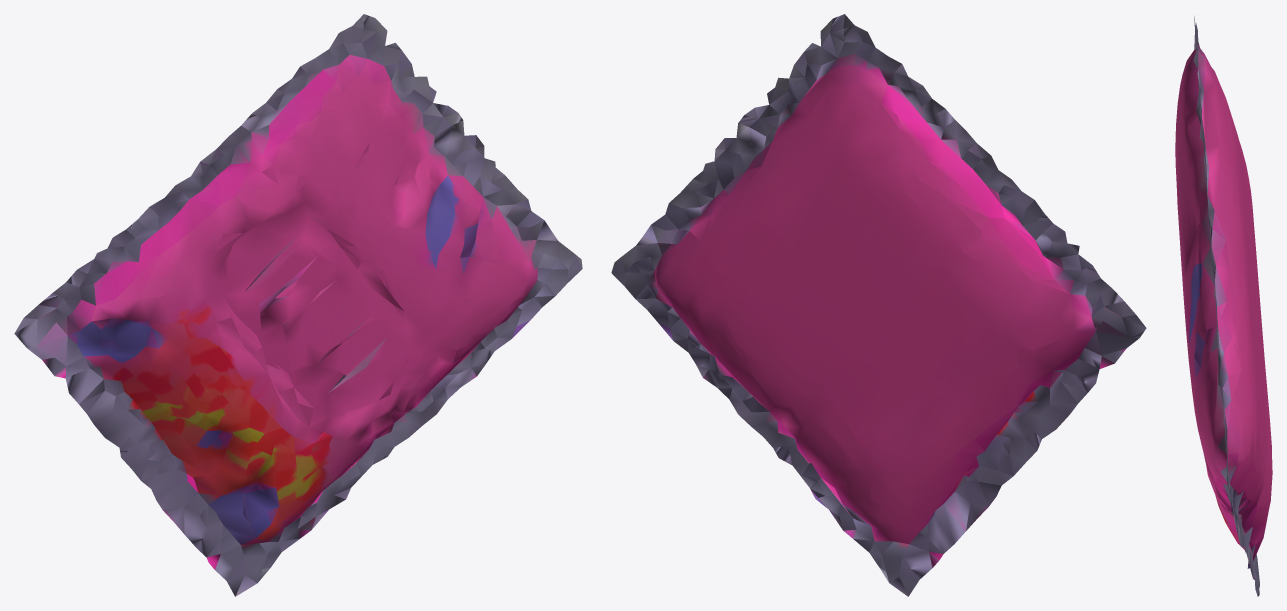
The model's file is condom.glb.
3 views of the same model, side by side, from view 1: azimuth 30°, elevation 25°; view 2: azimuth 150°, elevation 25°; view 3: azimuth 270°, elevation 25° (orthographic). The views are drawn at different scales.
Visible parts, largest first — view 1: texture_pbr_v128; view 2: texture_pbr_v128; view 3: texture_pbr_v128.
Part boxes in pixels (box(x1,y1,x2,y2)): texture_pbr_v128: box(14, 14, 582, 596); texture_pbr_v128: box(611, 14, 1146, 596); texture_pbr_v128: box(1175, 16, 1272, 596).
Size of the model in its own units: 0.5467 by 0.5306 by 0.0738.
Materials: 1 (1 with a texture image).
